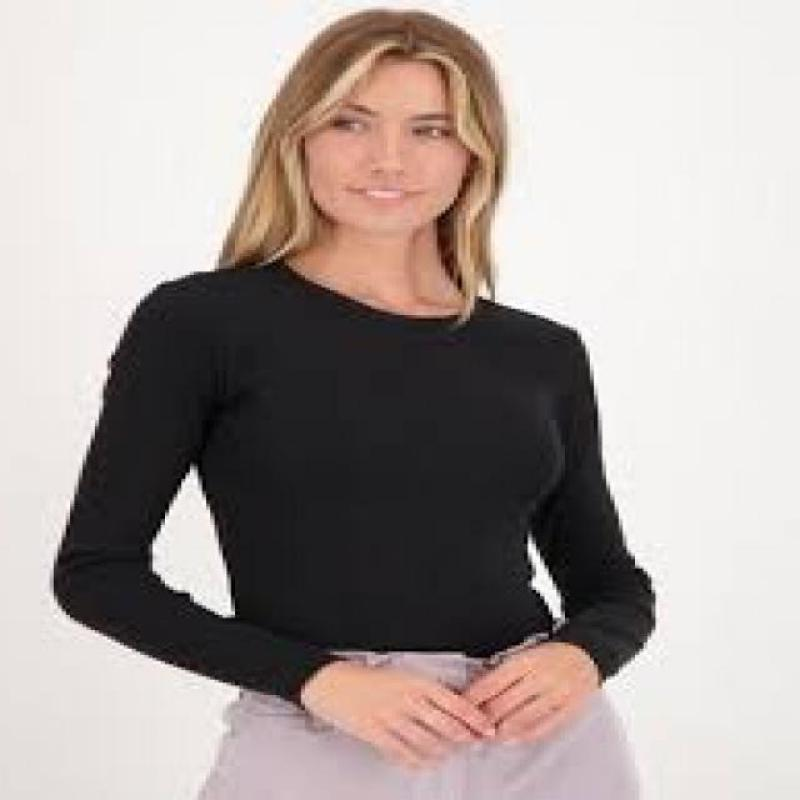long sleeve shirt: (46, 262, 662, 714)
trousers: (194, 648, 647, 800)
